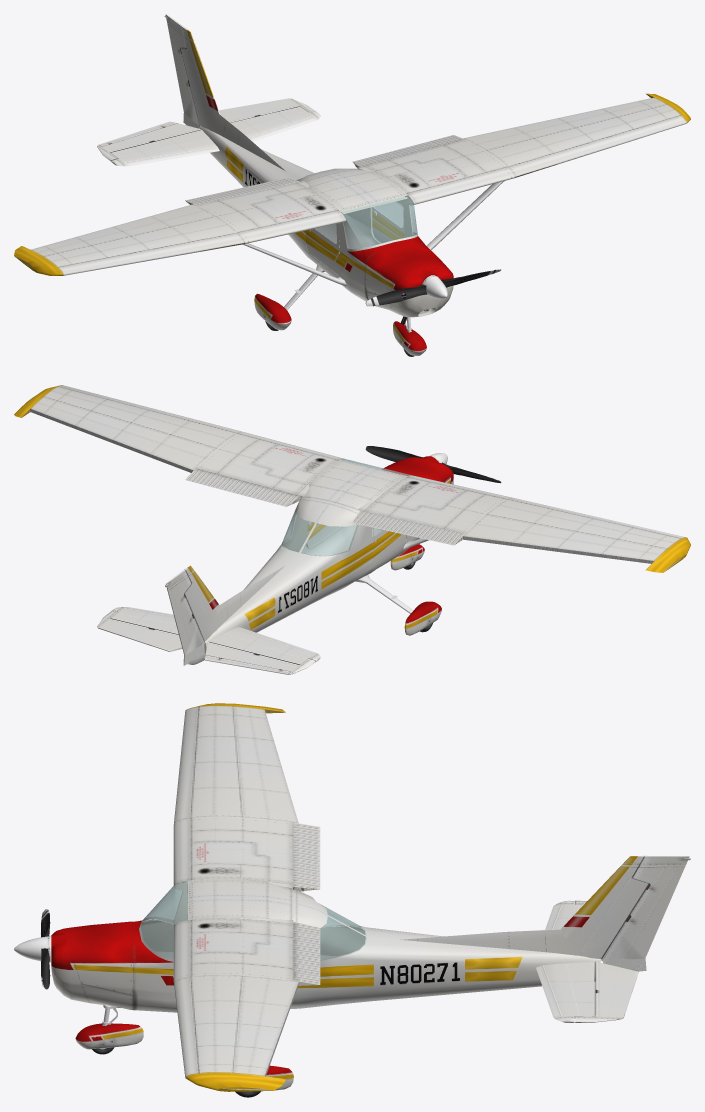
3 views of the same model, one above another, from view 1: azimuth 30°, elevation 25°; view 2: azimuth 150°, elevation 25°; view 3: azimuth 270°, elevation 25° (orthographic). The views are drawn at different scales.
Visible parts, largest first — view 1: body, elevL1, rud1, fanR1, flapL1, flapR1; view 2: body, elevL1, rud1, flapL1, flapR1, fanR1, gear; view 3: body, rud1, elevL1, flapR1, flapL1.
Boxes of the visible parts, x1,y1,x2,y2 form: body: (14,28,690,355); elevL1: (97,98,315,161); rud1: (164,14,200,128); fanR1: (365,269,501,306); flapL1: (352,135,464,169); flapR1: (185,178,299,204); body: (14,385,690,674); elevL1: (97,611,315,674); rud1: (165,570,204,665); flapL1: (185,468,301,506); flapR1: (352,510,464,545); fanR1: (365,446,501,483); gear: (355,562,432,632); body: (14,703,648,1091); rud1: (601,855,690,971); elevL1: (575,900,638,1022); flapR1: (286,823,320,891); flapL1: (293,922,320,985).
Bounding box in the file's own units: 9.93 × 2.39 × 7.44.
7 materials, 4 textured.
